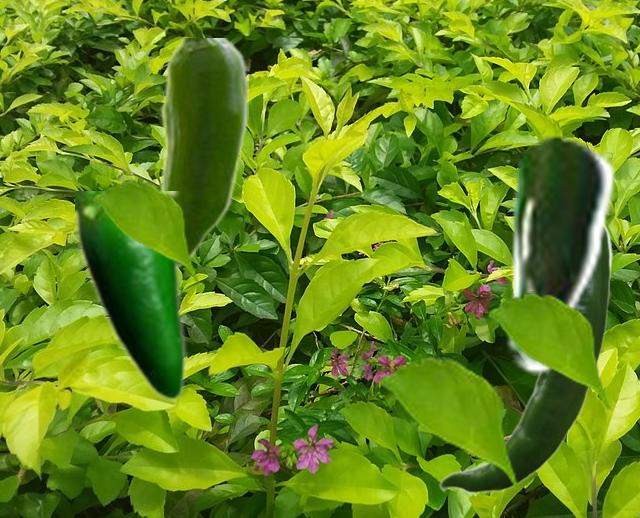green_chili: (438, 226, 612, 493), (501, 133, 616, 374), (75, 191, 186, 401), (156, 38, 247, 270)
